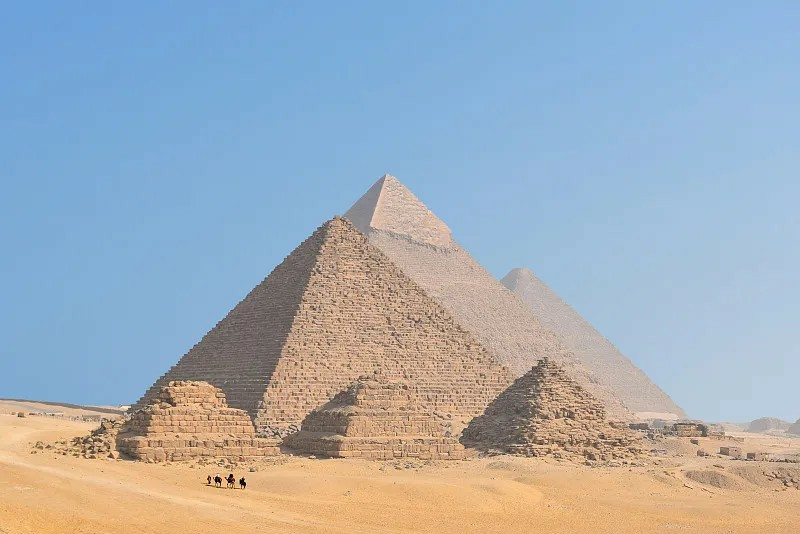Pyramid: (122, 215, 518, 451), (341, 173, 646, 426), (501, 268, 684, 420), (461, 359, 645, 453), (282, 378, 468, 460), (105, 381, 283, 463)
